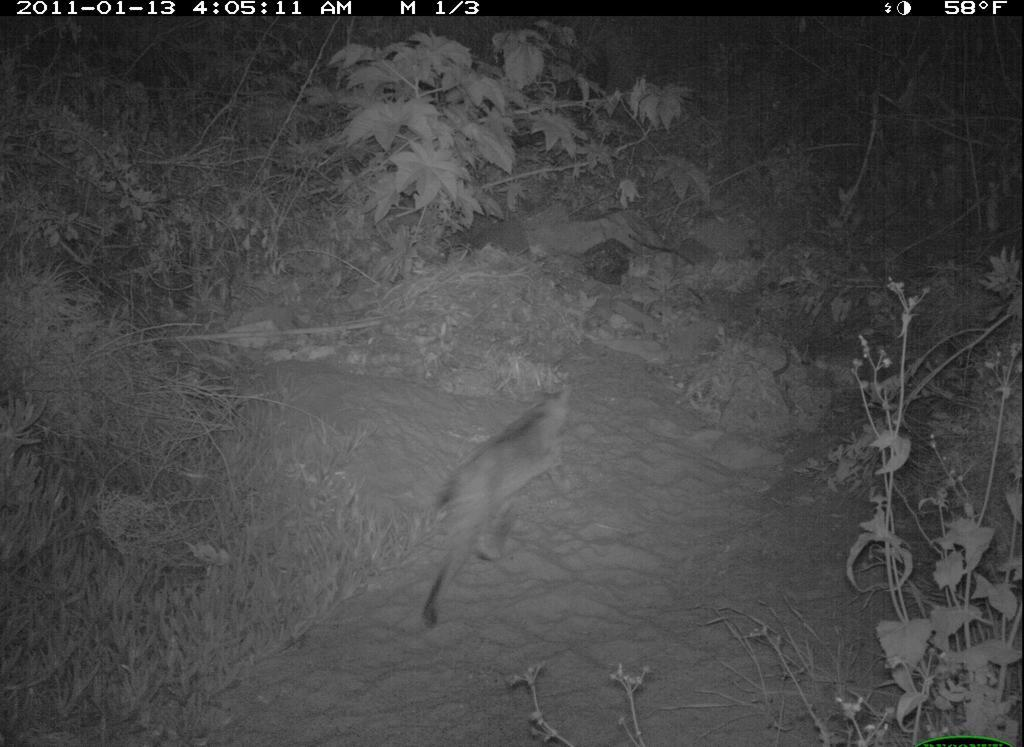bobcat: (415, 381, 602, 642)
